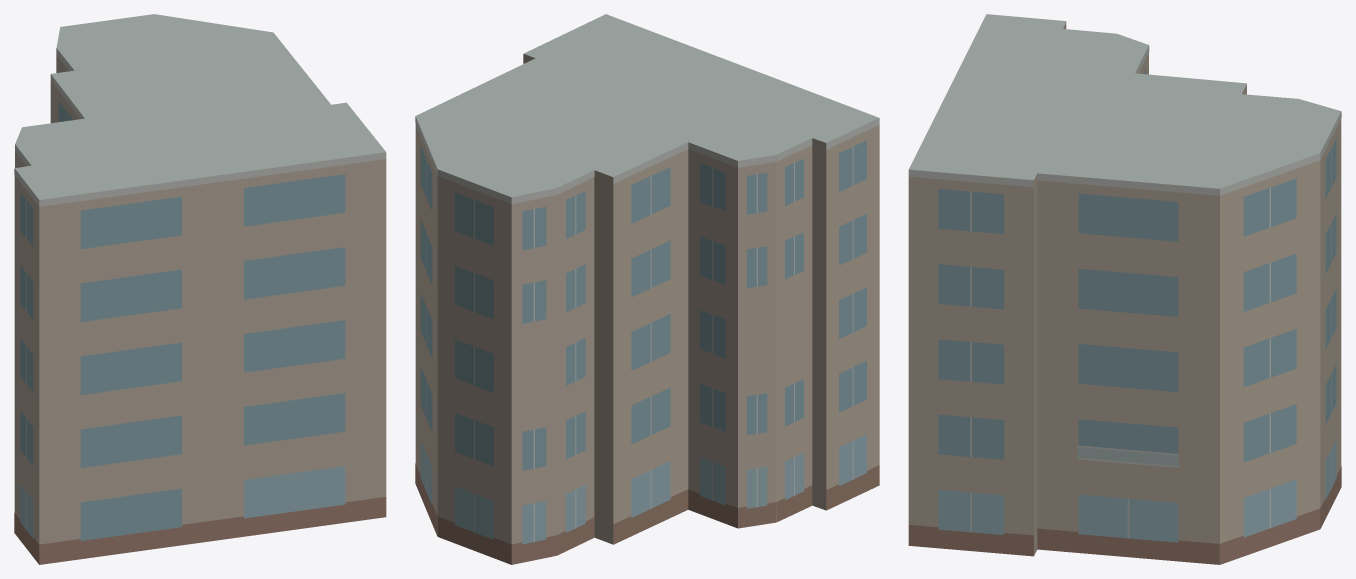
Rendered from survey-upis-32661117.glb.
The picture shows the model from 3 angles, left to right: view 1: azimuth 30°, elevation 25°; view 2: azimuth 150°, elevation 25°; view 3: azimuth 270°, elevation 25°; orthographic projection. The views are drawn at different scales.
Visible parts, largest first — view 1: survey-upis-32661117.tmp; view 2: survey-upis-32661117.tmp; view 3: survey-upis-32661117.tmp.
Boxes of the visible parts, left/top/right/bottom form: survey-upis-32661117.tmp: left=14, top=14, right=386, bottom=564; survey-upis-32661117.tmp: left=415, top=14, right=879, bottom=564; survey-upis-32661117.tmp: left=908, top=14, right=1341, bottom=564.
Size of the model in its own units: 13.07 by 13.1 by 13.67.
